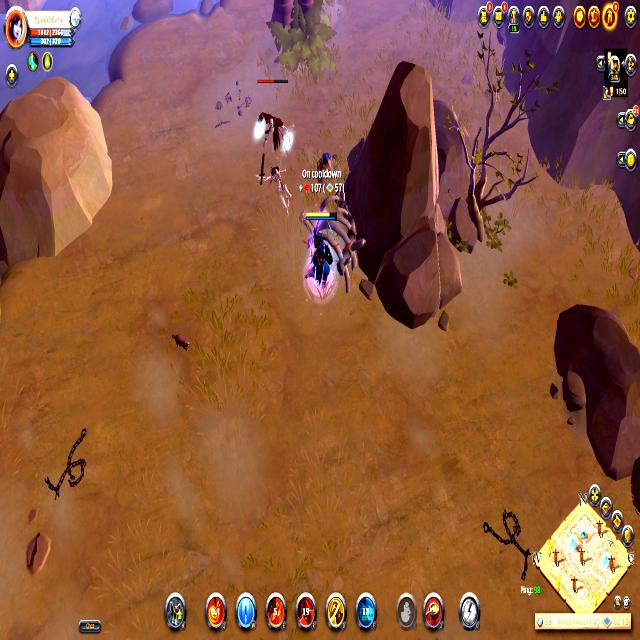ore: (246, 74, 296, 159)
player: (316, 148, 340, 184)
red: (301, 208, 338, 300)
